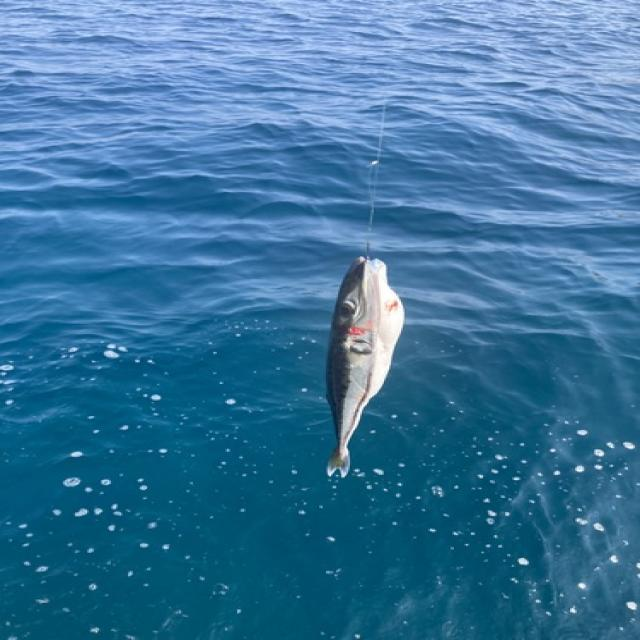Balik: (326, 258, 404, 477)
